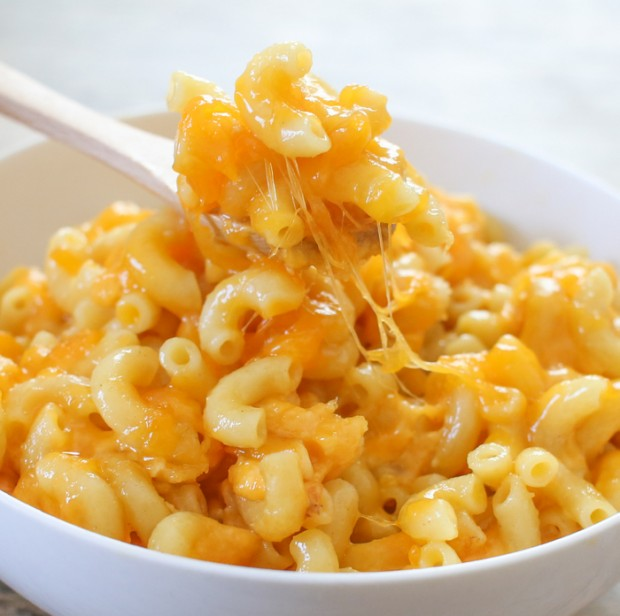macncheese: (6, 59, 620, 573)
